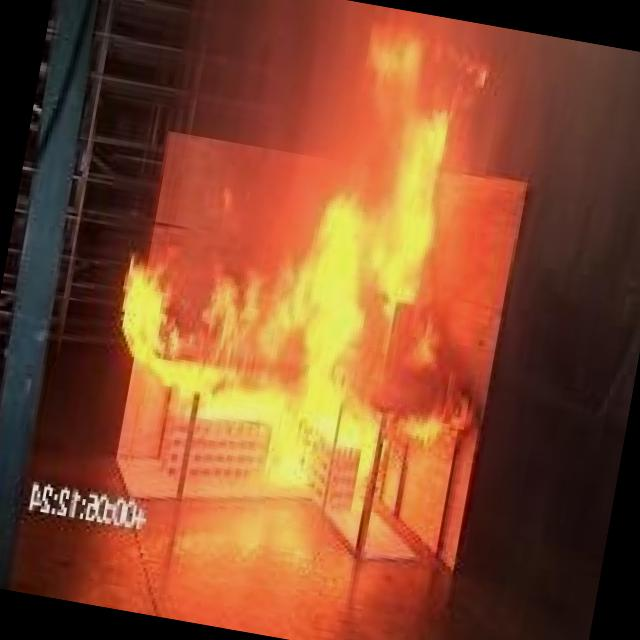fire: (71, 0, 545, 573)
